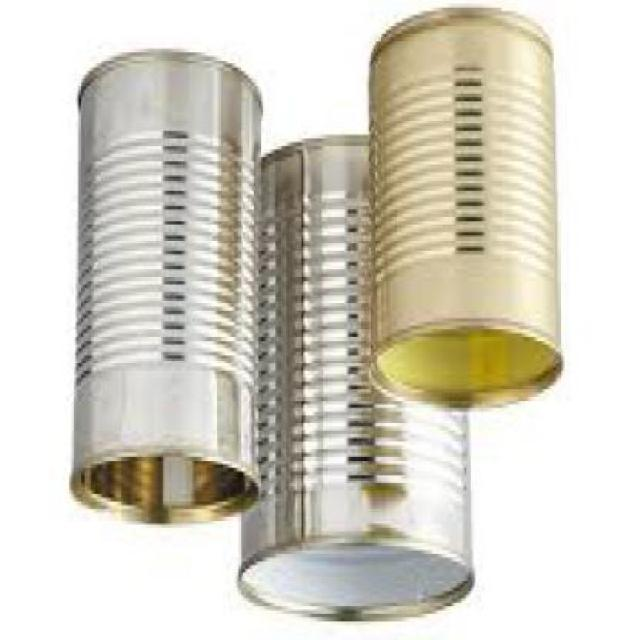METAL: (238, 138, 476, 624), (73, 56, 267, 532), (367, 8, 568, 415)
